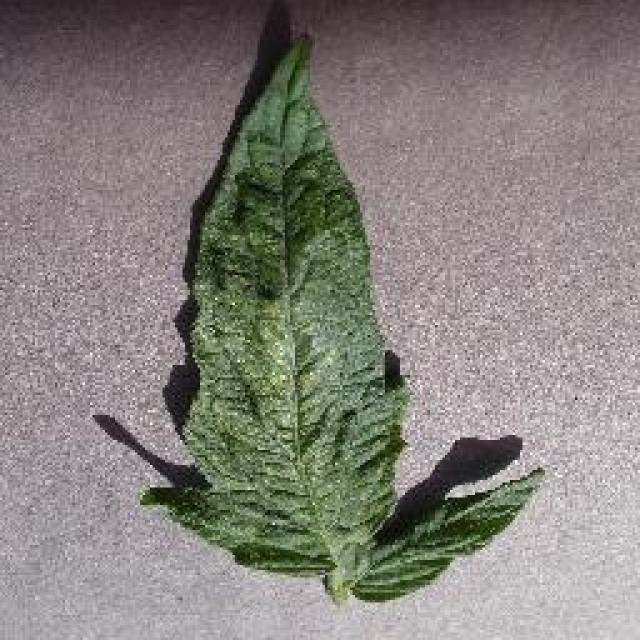Tom_Spider_mites Two-spotted_spider_mite: (192, 165, 354, 486)
